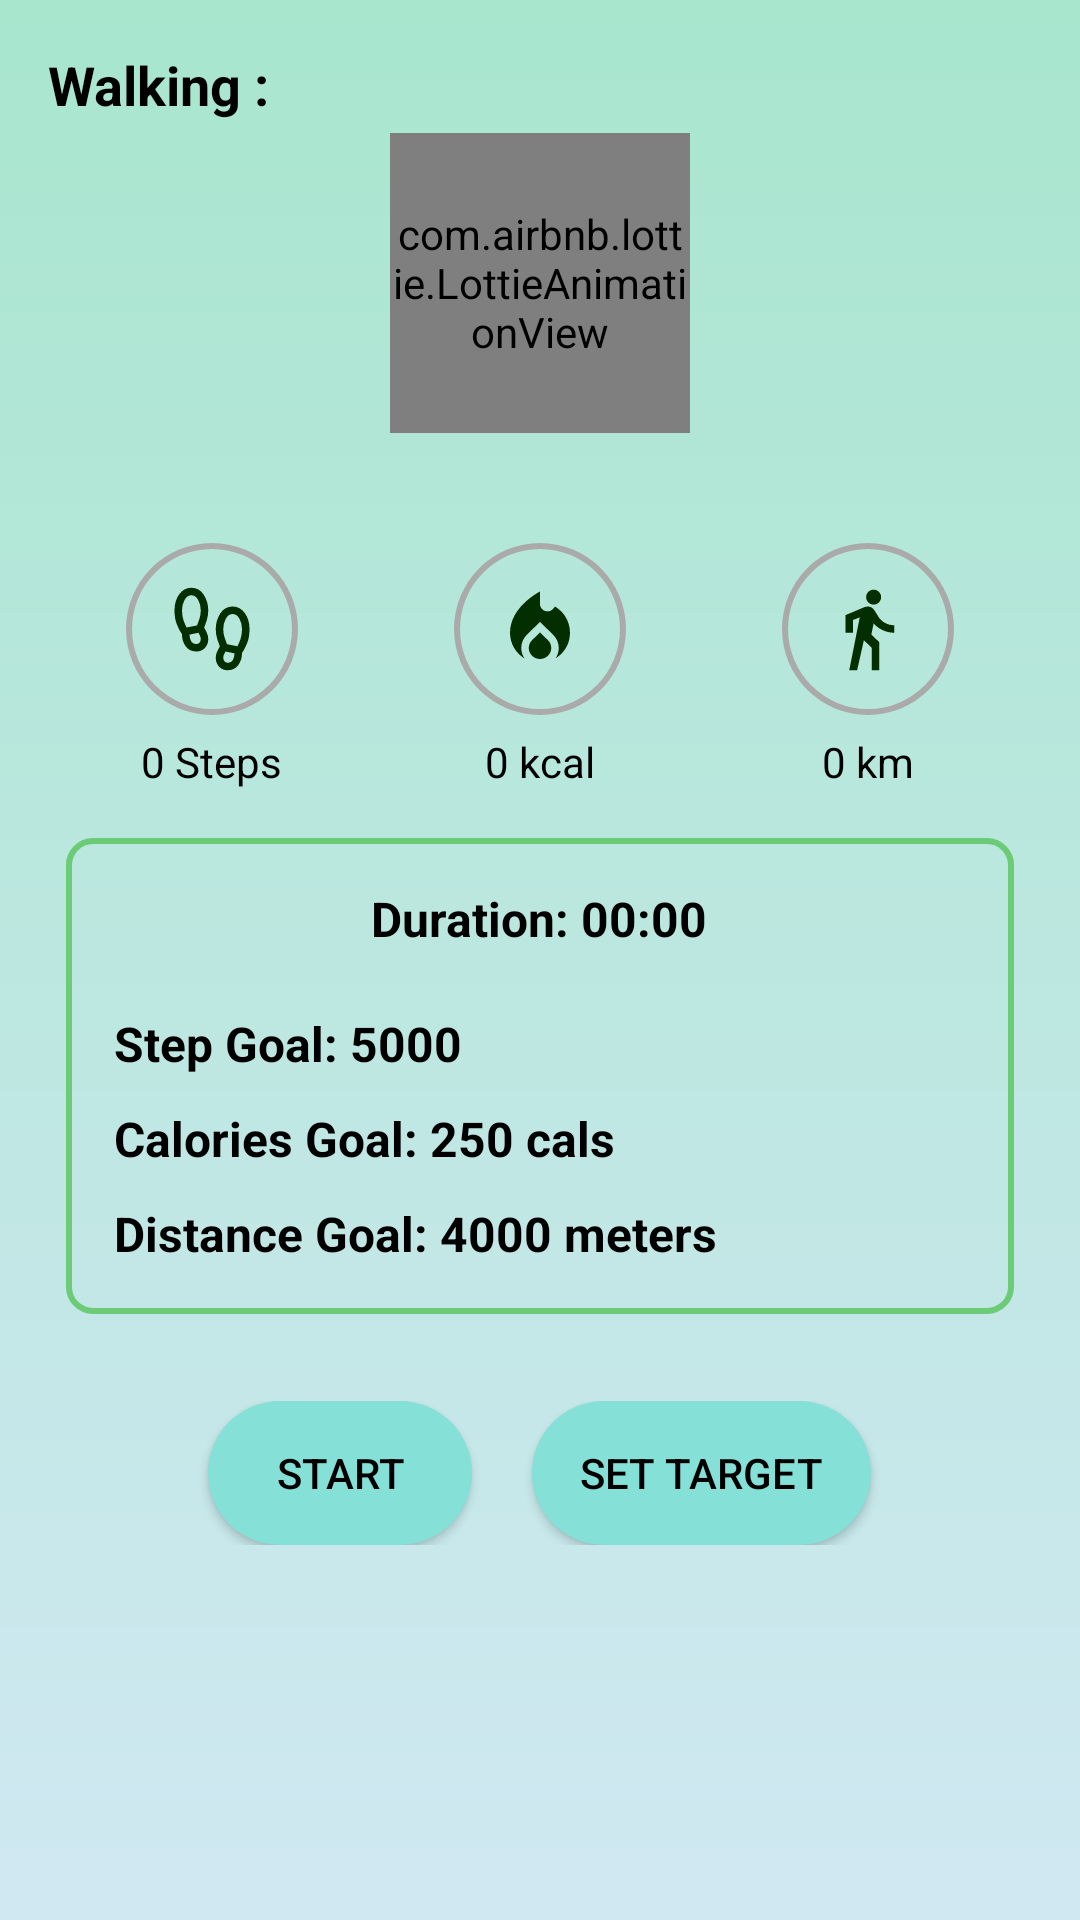

Named icons in this screenshot (1080 x 1920) and their centers, point (x, y):
burn: point (540, 625)
walk: point (870, 630)
